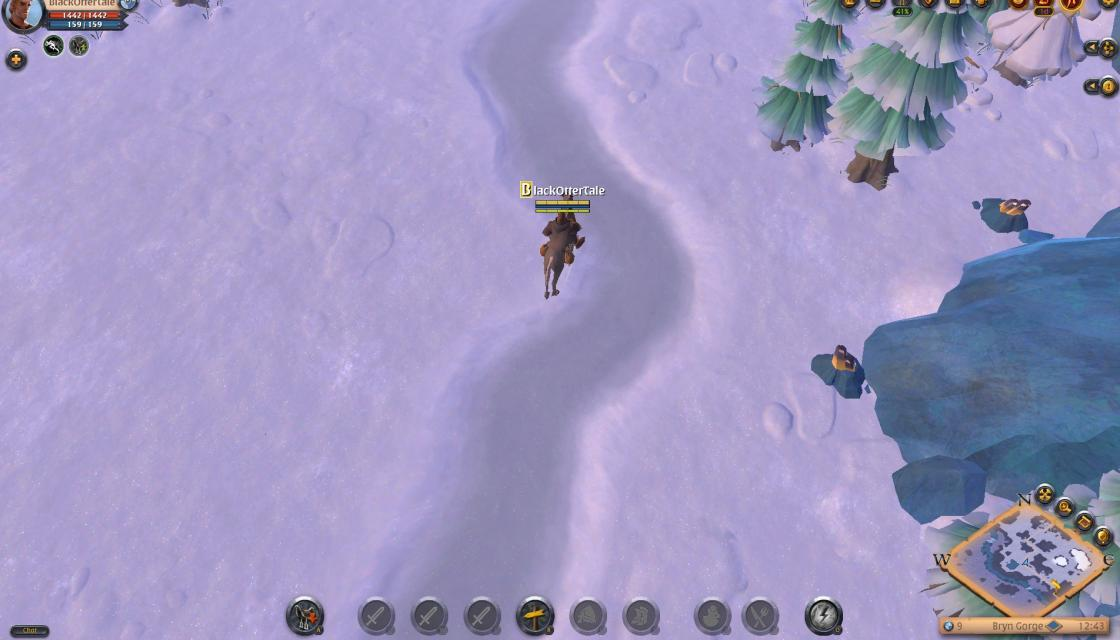copperore: (809, 338, 870, 398), (971, 188, 1033, 234)
